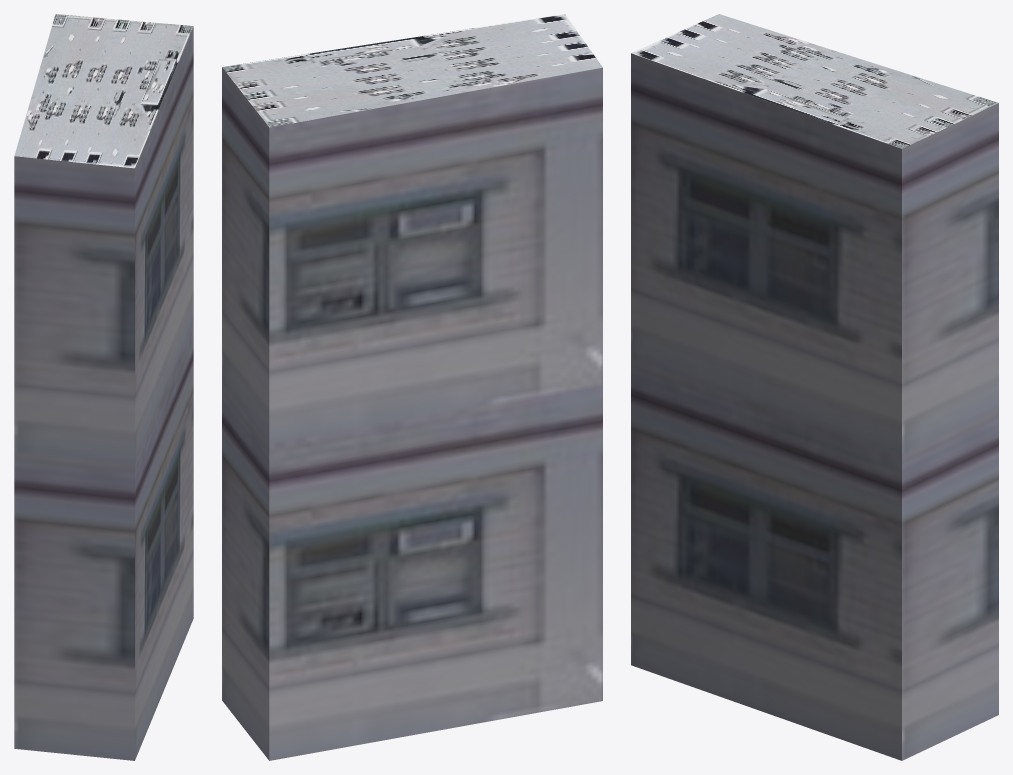
Rendered from ResTex__932.fbx.
3 views of the same model, side by side, from view 1: azimuth 30°, elevation 25°; view 2: azimuth 150°, elevation 25°; view 3: azimuth 270°, elevation 25° (orthographic). The views are drawn at different scales.
Parts seen in each view (by area): view 1: CityEngineMaterial_1_m, CityEngineMaterial_4_m; view 2: CityEngineMaterial_1_m, CityEngineMaterial_4_m; view 3: CityEngineMaterial_1_m, CityEngineMaterial_4_m.
Part boxes in pixels (bbox=[...]): CityEngineMaterial_1_m: bbox=[14, 26, 193, 760]; CityEngineMaterial_4_m: bbox=[14, 14, 193, 168]; CityEngineMaterial_1_m: bbox=[222, 67, 602, 760]; CityEngineMaterial_4_m: bbox=[222, 14, 602, 127]; CityEngineMaterial_1_m: bbox=[631, 53, 998, 760]; CityEngineMaterial_4_m: bbox=[631, 14, 998, 148].
Bounding box in the file's own units: 2.84 × 6 × 3.27.
Materials: 2 (2 with a texture image).
